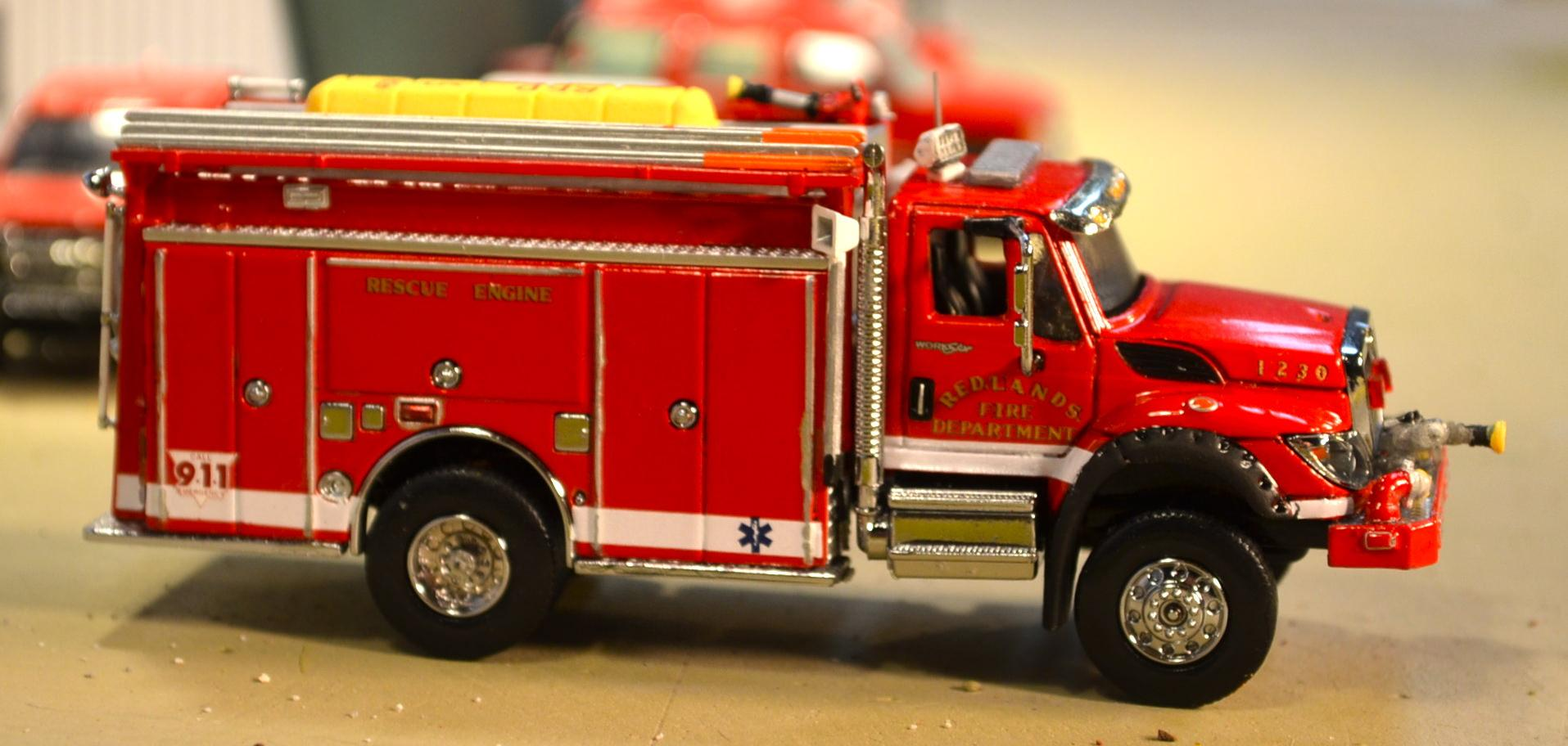Fire-engine: (79, 67, 1507, 708)
